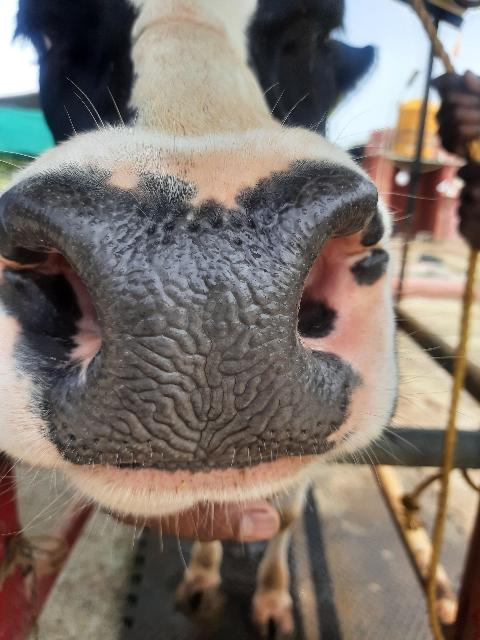Muzzle: (93, 218, 299, 457)
